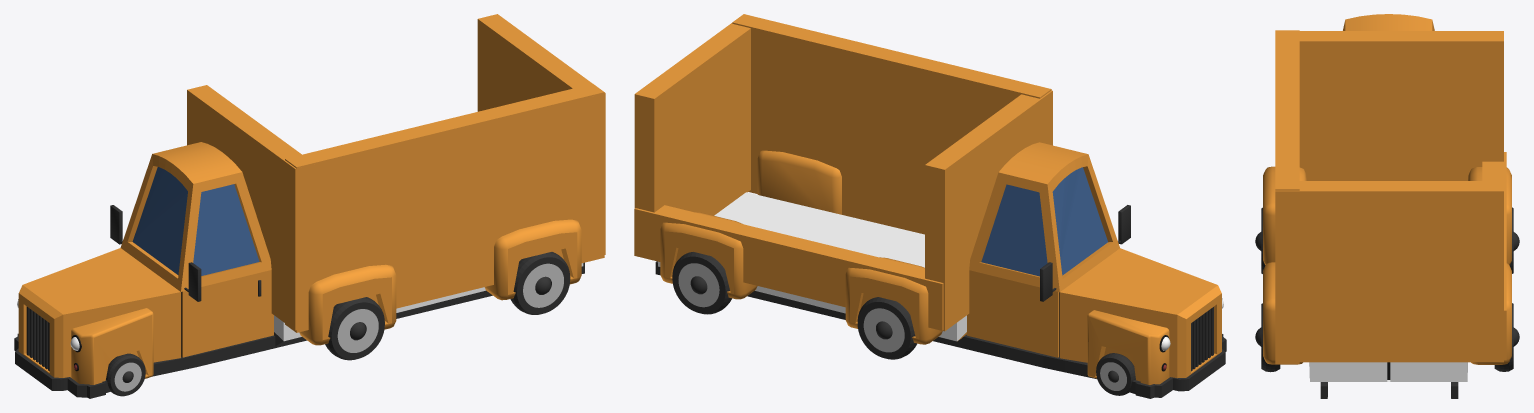
The model's file is foodtruck.fbx.
3 views of the same model, side by side, from view 1: azimuth 30°, elevation 25°; view 2: azimuth 150°, elevation 25°; view 3: azimuth 270°, elevation 25° (orthographic). The views are drawn at different scales.
Parts seen in each view (by area): view 1: Truck_1359; view 2: Truck_1359; view 3: Truck_1359.
Part boxes in pixels (x1,y1,x2,y2): Truck_1359: (14, 14, 605, 398); Truck_1359: (634, 14, 1226, 398); Truck_1359: (1255, 14, 1519, 398).
Size of the model in its own units: 11569 by 4367 by 4830.
